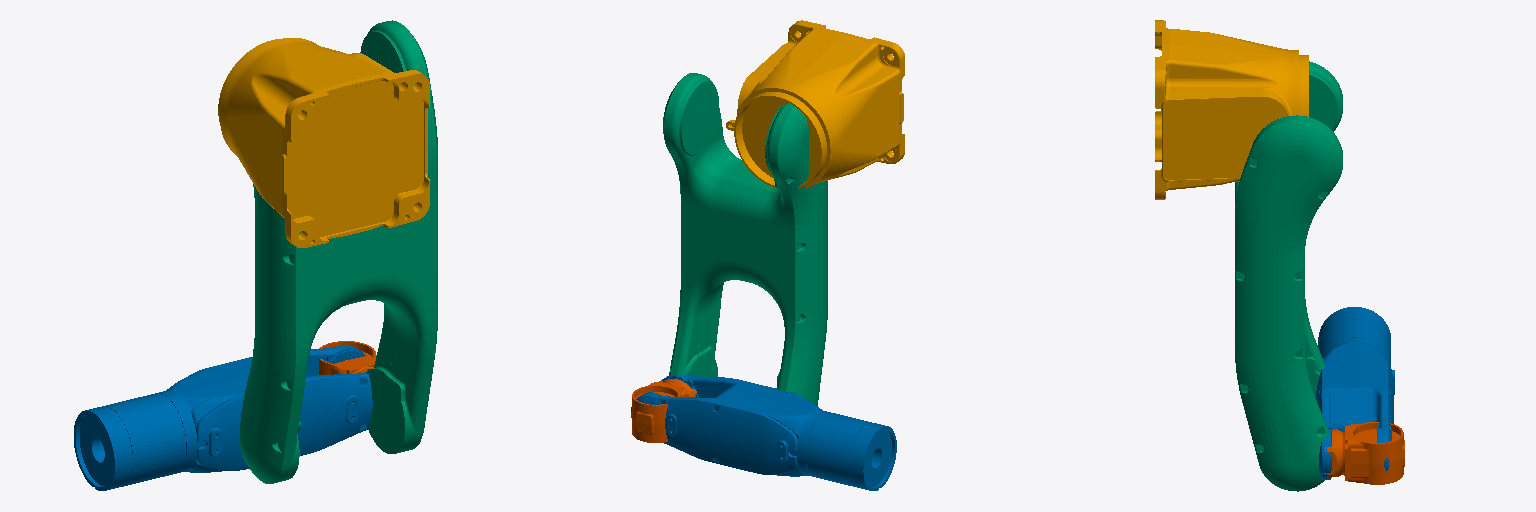
The robot description file, URDF, robot "yaskawa_gp7":
<?xml version="1.0" encoding="utf-8"?>
<robot name="yaskawa_gp7">

    <link name="base_link">
        <inertial>
            <origin xyz="0.0009603893107879653 0.09547594983572631 -6.387060478781994e-06"
                    rpy="0.0 0.0 0.0"/>
            <mass value="39.15527241322243"/>
            <inertia
                ixx="0.20150508420490032"
                iyy="0.1782441793265053"
                izz="0.20580436608238734"
                ixy="-0.0012033189619815702"
                iyz="-0.000374740436309197"
                ixz="0.00018489759711636447"/>
        </inertial>

        <visual name="base_link_visual">
            <origin xyz="0.0 0.0 0.0"
                    rpy="0.0 0.0 0.0"/>
            <geometry>
                <mesh
                    filename="meshes/GP7-Robot-v2_GP7_BASE_BASE.stl"
                    scale="0.001 0.001 0.001"/>
            </geometry>
        </visual>

        <collision name="base_link_collision">
            <origin xyz="0.0 0.0 0.0"
                    rpy="0.0 0.0 0.0"/>
            <geometry>
                <mesh
                    filename="meshes/GP7-Robot-v2_GP7_BASE_BASE.stl"
                    scale="0.001 0.001 0.001"/>
            </geometry>
        </collision>
    </link>


    <link name="s_link">
        <inertial>
            <origin xyz="8.65872716469933e-05 -0.042266151510792285 0.021951100884326422"
                    rpy="0.0 0.0 0.0"/>
            <mass value="22.92449810887977"/>
            <inertia
                ixx="0.09521626056606608"
                iyy="0.07151435417071728"
                izz="0.08881925281248723"
                ixy="-7.269161680177967e-05"
                iyz="0.017387187256483104"
                ixz="-1.5669554338061333e-05"/>
        </inertial>

        <visual name="s_link_visual">
            <origin xyz="0.0 0.0 0.0"
                    rpy="0.0 0.0 0.0"/>
            <geometry>
                <mesh
                    filename="meshes/GP7-Robot-v2_GP7_S_AXIS_S-HEAD.stl"
                    scale="0.001 0.001 0.001"/>
            </geometry>
        </visual>

        <collision name="s_link_collision">
            <origin xyz="0.0 0.0 0.0"
                    rpy="0.0 0.0 0.0"/>
            <geometry>
                <mesh
                    filename="meshes/GP7-Robot-v2_GP7_S_AXIS_S-HEAD.stl"
                    scale="0.001 0.001 0.001"/>
            </geometry>
        </collision>
    </link>


    <link name="l_link">
        <inertial>
            <origin xyz="0.027644373048620812 0.0002837186098014377 -0.1949133093093526"
                    rpy="0.0 0.0 0.0"/>
            <mass value="48.941168003927714"/>
            <inertia
                ixx="1.1181756014325734"
                iyy="0.8697455881488618"
                izz="0.34349069385949027"
                ixy="0.0003263160414143097"
                iyz="0.0038455141886388758"
                ixz="-0.002402260801948111"/>
        </inertial>

        <visual name="l_link_visual">
            <origin xyz="0.0 0.0 0.0"
                    rpy="0.0 0.0 0.0"/>
            <geometry>
                <mesh
                    filename="meshes/GP7-Robot-v2_GP7_L_AXIS_Component34.stl"
                    scale="0.001 0.001 0.001"/>
            </geometry>
        </visual>

        <collision name="l_link_collision">
            <origin xyz="0.0 0.0 0.0"
                    rpy="0.0 0.0 0.0"/>
            <geometry>
                <mesh
                    filename="meshes/GP7-Robot-v2_GP7_L_AXIS_Component34.stl"
                    scale="0.001 0.001 0.001"/>
            </geometry>
        </collision>
    </link>


    <link name="u_link">
        <inertial>
            <origin xyz="-0.0011871418202058874 -0.0010493082972205699 0.019229506996896423"
                    rpy="0.0 0.0 0.0"/>
            <mass value="18.20515051091812"/>
            <inertia
                ixx="0.05454936689712726"
                iyy="0.05519410688287771"
                izz="0.04894927654779098"
                ixy="0.0002279544650610062"
                iyz="-0.0003033971104922507"
                ixz="-0.006029104886886086"/>
        </inertial>

        <visual name="u_link_visual">
            <origin xyz="0.0 0.0 0.0"
                    rpy="0.0 0.0 0.0"/>
            <geometry>
                <mesh
                    filename="meshes/GP7-Robot-v2_GP7_U_AXIS_Uaxis_CASING.stl"
                    scale="0.001 0.001 0.001"/>
            </geometry>
        </visual>

        <collision name="u_link_collision">
            <origin xyz="0.0 0.0 0.0"
                    rpy="0.0 0.0 0.0"/>
            <geometry>
                <mesh
                    filename="meshes/GP7-Robot-v2_GP7_U_AXIS_Uaxis_CASING.stl"
                    scale="0.001 0.001 0.001"/>
            </geometry>
        </collision>
    </link>


    <link name="r_link">
        <inertial>
            <origin xyz="-0.07488838115013606 -0.00015275804930933045 -0.00015875765822070189"
                    rpy="0.0 0.0 0.0"/>
            <mass value="21.62879765377921"/>
            <inertia
                ixx="0.03323327927781171"
                iyy="0.21379961973212674"
                izz="0.21028808934745458"
                ixy="0.0001294843446291938"
                iyz="7.170630855753885e-06"
                ixz="0.0008616204783925965"/>
        </inertial>

        <visual name="r_link_visual">
            <origin xyz="0.0 0.0 0.0"
                    rpy="0.0 0.0 0.0"/>
            <geometry>
                <mesh
                    filename="meshes/GP7-Robot-v2_GP7_R_AXIS_Component35.stl"
                    scale="0.001 0.001 0.001"/>
            </geometry>
        </visual>

        <collision name="r_link_collision">
            <origin xyz="0.0 0.0 0.0"
                    rpy="0.0 0.0 0.0"/>
            <geometry>
                <mesh
                    filename="meshes/GP7-Robot-v2_GP7_R_AXIS_Component35.stl"
                    scale="0.001 0.001 0.001"/>
            </geometry>
        </collision>
    </link>


    <link name="b_link">
        <inertial>
            <origin xyz="0.00025402528103604915 0.013210110946702868 -0.0017487590745982277"
                    rpy="0.0 0.0 0.0"/>
            <mass value="1.9301638312258578"/>
            <inertia
                ixx="0.0018732920479167512"
                iyy="0.0012327603871185064"
                izz="0.002233465577844436"
                ixy="-1.1619241876400577e-05"
                iyz="-4.457391642032219e-05"
                ixz="1.764869218979096e-06"/>
        </inertial>

        <visual name="b_link_visual">
            <origin xyz="0.0 0.0 0.0"
                    rpy="0.0 0.0 0.0"/>
            <geometry>
                <mesh
                    filename="meshes/GP7-Robot-v2_GP7_B_AXIS_Component36.stl"
                    scale="0.001 0.001 0.001"/>
            </geometry>
        </visual>

        <collision name="b_link_collision">
            <origin xyz="0.0 0.0 0.0"
                    rpy="0.0 0.0 0.0"/>
            <geometry>
                <mesh
                    filename="meshes/GP7-Robot-v2_GP7_B_AXIS_Component36.stl"
                    scale="0.001 0.001 0.001"/>
            </geometry>
        </collision>
    </link>


    <link name="t_link">
        <inertial>
            <origin xyz="0.006614209864184516 6.683414763528139e-05 -2.992253201471205e-14"
                    rpy="0.0 0.0 0.0"/>
            <mass value="0.18990384357221135"/>
            <inertia
                ixx="7.049936426152428e-05"
                iyy="3.795764278624715e-05"
                izz="3.7766418234754017e-05"
                ixy="-1.630151664340271e-08"
                iyz="4.08780099666707e-17"
                ixz="1.9738520164027623e-17"/>
        </inertial>

        <visual name="t_link_visual">
            <origin xyz="0.0 0.0 0.0"
                    rpy="0.0 0.0 0.0"/>
            <geometry>
                <mesh
                    filename="meshes/GP7-Robot-v2_GP7_T_AXIS_TAXIS_FLANGE.stl"
                    scale="0.001 0.001 0.001"/>
            </geometry>
        </visual>

        <collision name="t_link_collision">
            <origin xyz="0.0 0.0 0.0"
                    rpy="0.0 0.0 0.0"/>
            <geometry>
                <mesh
                    filename="meshes/GP7-Robot-v2_GP7_T_AXIS_TAXIS_FLANGE.stl"
                    scale="0.001 0.001 0.001"/>
            </geometry>
        </collision>
    </link>


    <!-- S AXIS -->
    <joint name="joint_1" type="revolute">

        <origin
            xyz="1.9179180758185845e-32 0.1944999999999998 2.1593837828959357e-17"
            rpy="-1.110223024625161e-16 -2.22044604925031e-16 3.141592653589793"/>

        <parent link="base_link"/>
        <child link="s_link"/>

        <axis xyz="0 -1 0"/>

        <limit
            lower="-2.96705972839036"
            upper="2.96705972839036"
            effort="1000.0"
            velocity="6.54498469497874"/>

    </joint>


    <!-- L AXIS -->
    <joint name="joint_2" type="revolute">

        <origin
            xyz="-0.0720000000000278 -4.517630713962717e-13 1.8574462856690845e-10"
            rpy="2.498002234716727e-16 1.0778458445043819e-11 1.570796326795179"/>

        <parent link="s_link"/>
        <child link="l_link"/>

        <axis xyz="0 1 0"/>

        <limit
            lower="-1.13446401379631"
            upper="2.53072741539178"
            effort="1000.0"
            velocity="5.49778714378214"/>

    </joint>


    <!-- U AXIS -->
    <joint name="joint_3" type="revolute">

        <origin
            xyz="-0.0006506898190682353 -0.07499999999975736 -0.44654532999959345"
            rpy="1.570796326794452 -1.077784207712261e-11 3.141592653589793"/>

        <parent link="l_link"/>
        <child link="u_link"/>

        <axis xyz="0 0 1"/>

        <limit
            lower="-1.22173047639603"
            upper="3.31612557878923"
            effort="1000.0"
            velocity="7.15584993317675"/>

    </joint>


    <!-- R AXIS -->
    <joint name="joint_4" type="revolute">

        <origin
            xyz="0.07899999817977746 2.603515076030146e-13 0.039999997280081065"
            rpy="-3.141592653589793 -1.5707963267841094 0"/>

        <parent link="u_link"/>
        <child link="r_link"/>

        <axis xyz="0 0 1"/>

        <limit
            lower="-3.31612557878923"
            upper="3.31612557878923"
            effort="1000.0"
            velocity="9.59931088596881"/>

    </joint>


    <!-- B AXIS -->
    <joint name="joint_5" type="revolute">

        <origin
            xyz="0.1193482568862776 -2.6581183476537264e-09 0.03099999999973949"
            rpy="-1.570796326795341 2.5326958281134994e-16 -1.0777964541802529e-11"/>

        <parent link="r_link"/>
        <child link="b_link"/>

        <axis xyz="0 -1 0"/>

        <limit
            lower="-2.35619449019234"
            upper="2.35619449019234"
            effort="1000.0"
            velocity="9.59931088596881"/>

    </joint>


    <!-- T AXIS -->
    <joint name="joint_6" type="revolute">

        <origin
            xyz="-2.66320427044775e-09 0.07599999817979139 -4.400868979454012e-12"
            rpy="-3.141592653557038 5.596228341870631e-11 -1.5707963267281568"/>

        <parent link="b_link"/>
        <child link="t_link"/>

        <axis xyz="1 0 0"/>

        <limit
            lower="-6.28318530717959"
            upper="6.28318530717959"
            effort="1000.0"
            velocity="17.4532925199433"/>

    </joint>

</robot>

--- What the picture shows (computed from the rendered views, not written in the file) ---
Views: 3 orthographic renders of the robot side by side, from view 1: azimuth 30°, elevation 25°; view 2: azimuth 150°, elevation 25°; view 3: azimuth 270°, elevation 25°.
Robot: yaskawa_gp7 — 7 links, 6 joints (6 revolute); root link base_link; default pose: every joint at zero.
Links seen in each view (by area): view 1: l_link, base_link, r_link, b_link; view 2: l_link, base_link, r_link, b_link; view 3: l_link, base_link, r_link, b_link.
Link boxes in pixels (bbox=[...]): l_link: bbox=[240, 20, 437, 483]; base_link: bbox=[218, 38, 429, 247]; r_link: bbox=[74, 345, 372, 490]; b_link: bbox=[319, 341, 376, 374]; l_link: bbox=[663, 73, 827, 405]; base_link: bbox=[726, 20, 904, 188]; r_link: bbox=[631, 375, 896, 490]; b_link: bbox=[631, 379, 696, 442]; l_link: bbox=[1235, 61, 1342, 491]; base_link: bbox=[1155, 20, 1308, 199]; r_link: bbox=[1316, 307, 1394, 479]; b_link: bbox=[1322, 422, 1404, 484].
Size in the robot's own frame: 0.4056 by 0.3432 by 0.5975 metres.
Meshes: 7 distinct files referenced, 4 mesh visuals loaded (4 binary STL); not drawn: 3 (reference not matched to a file when rendering).
